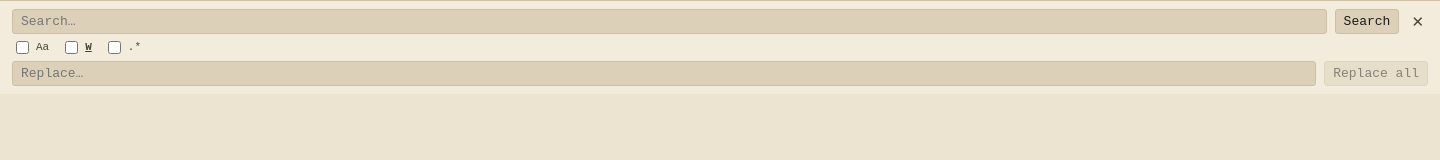
Scenario: SearchPanel › stringifies a non-Error thrown by searchProject
In the field named "Search pattern": (669, 22) top-left (12, 9), bottom-right (1327, 34), type "foo"
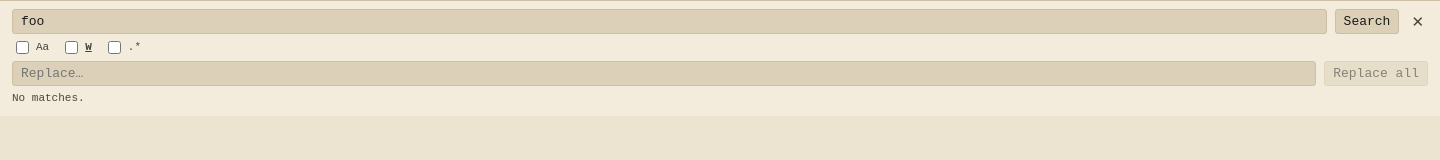
Click the button "Search": (1367, 22) top-left (1335, 9), bottom-right (1399, 34)
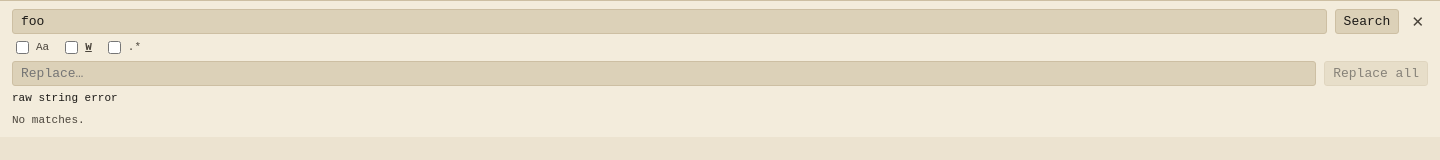
Now the text "raw string error" is shown, box top-left (12, 92), bottom-right (118, 104)
